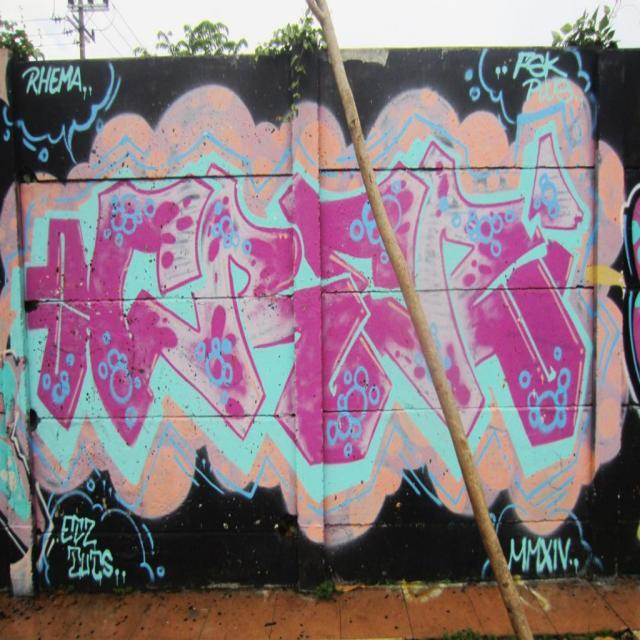-: (0, 86, 633, 536), (34, 483, 164, 592), (0, 60, 123, 161), (464, 44, 592, 125), (475, 503, 608, 580)
